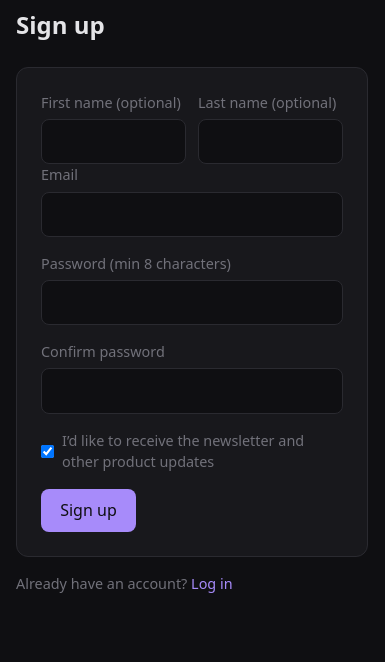
Scenario: Signup page – error messages › client-side validation › shows 'Passwords don't match.' when password and confirm password differ
This screenshot has width=385, height=662.
Type "a@b.co" into the field labelled "Email" at [192, 214], box [41, 192, 343, 237]
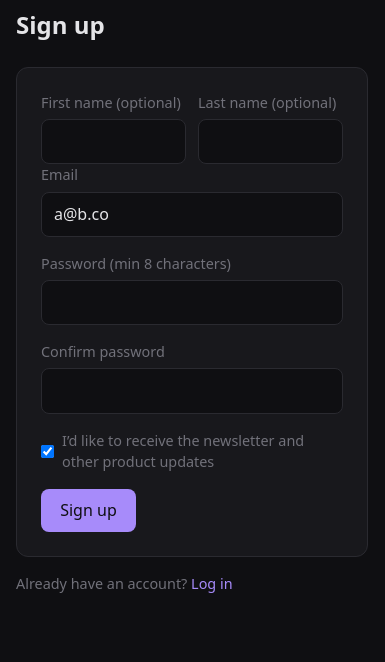
Type "password123" into the password field labelled "Password (min 8 characters)" at [192, 303], box [41, 280, 343, 325]
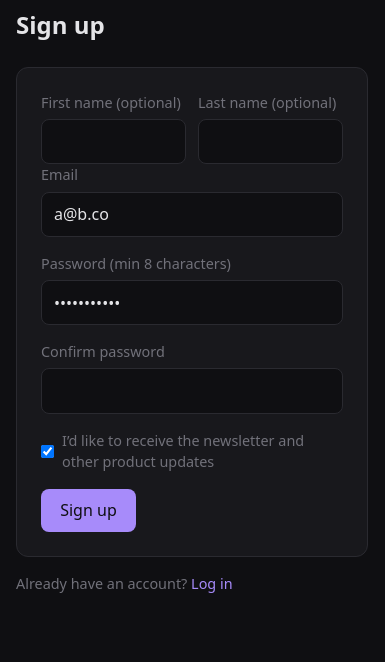
Type "different456" into the password field labelled "Confirm password" at [192, 391], box [41, 368, 343, 414]
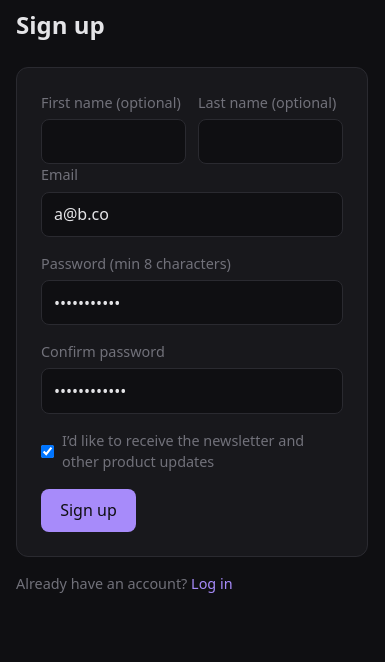
Click the button "Sign up" at [88, 510], box [41, 489, 136, 532]
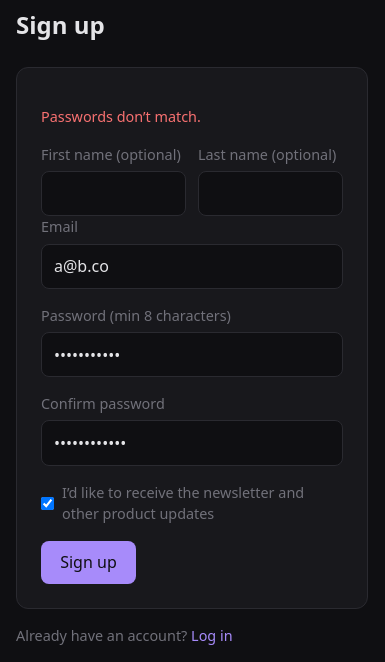
Now the text "Passwords don’t match." is shown, box [41, 108, 201, 126]
